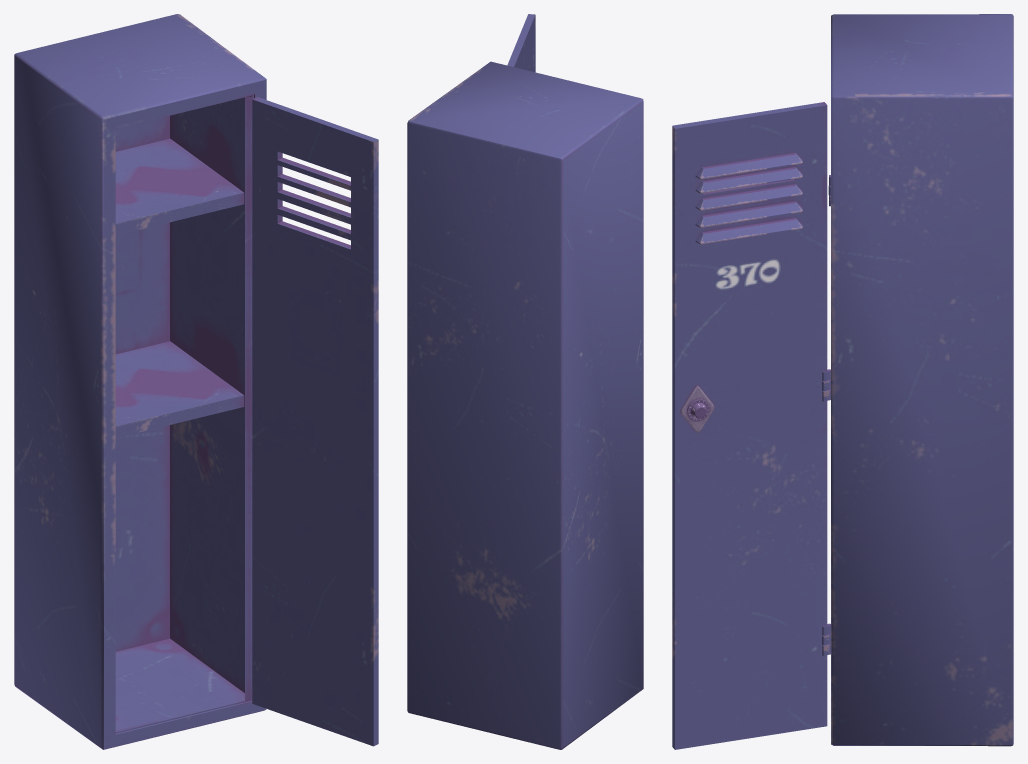
Rendered from locker.glb.
3 renders of one model, left to right at view 1: azimuth 30°, elevation 25°; view 2: azimuth 150°, elevation 25°; view 3: azimuth 270°, elevation 25°, orthographic. The views are drawn at different scales.
Parts seen in each view (by area): view 1: locker; view 2: locker; view 3: locker.
Part boxes in pixels (bbox=[...]): locker: bbox=[14, 14, 378, 749]; locker: bbox=[407, 14, 643, 749]; locker: bbox=[672, 14, 1013, 749].
Size of the model in its own units: 0.6316 by 1.88 by 0.8943.
Materials: 1 (1 with a texture image).
